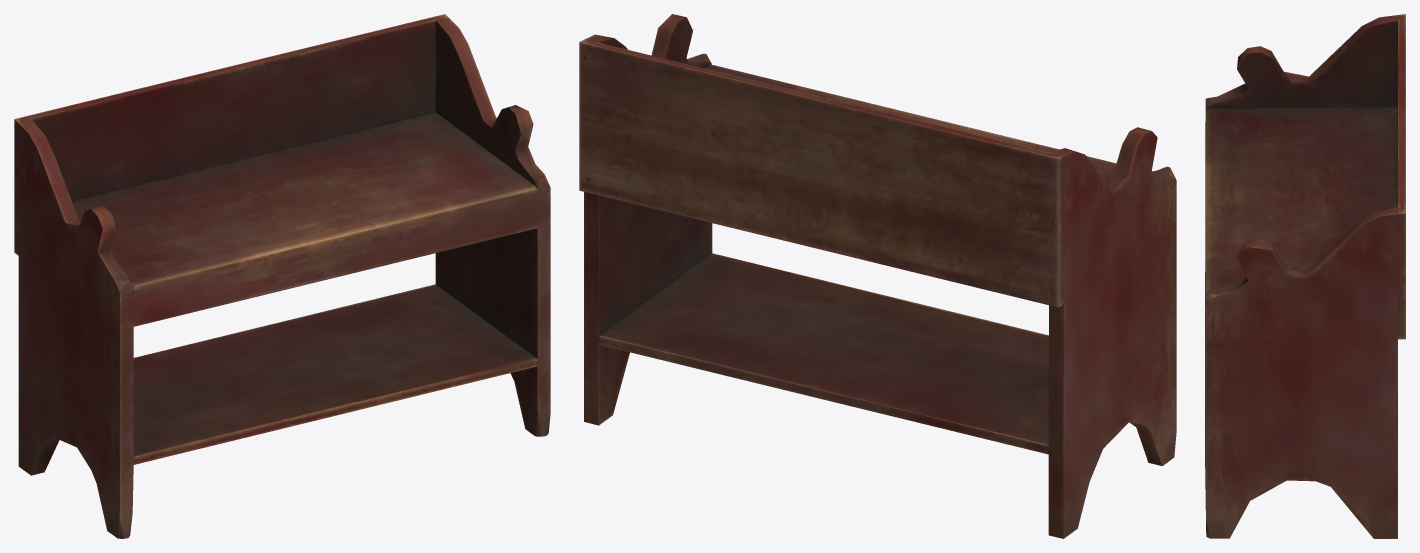
File: painted_wooden_bench.glb
The picture shows the model from 3 angles, left to right: view 1: azimuth 30°, elevation 25°; view 2: azimuth 150°, elevation 25°; view 3: azimuth 270°, elevation 25°; orthographic projection. The views are drawn at different scales.
Visible parts, largest first — view 1: painted_wooden_bench; view 2: painted_wooden_bench; view 3: painted_wooden_bench.
Part boxes in pixels (x1,y1,x2,y2): painted_wooden_bench: (14, 14, 550, 538); painted_wooden_bench: (579, 14, 1176, 538); painted_wooden_bench: (1205, 14, 1405, 538).
Bounding box in the file's own units: 1.16 × 0.8893 × 0.4965.
Materials: 1 (1 with a texture image).
